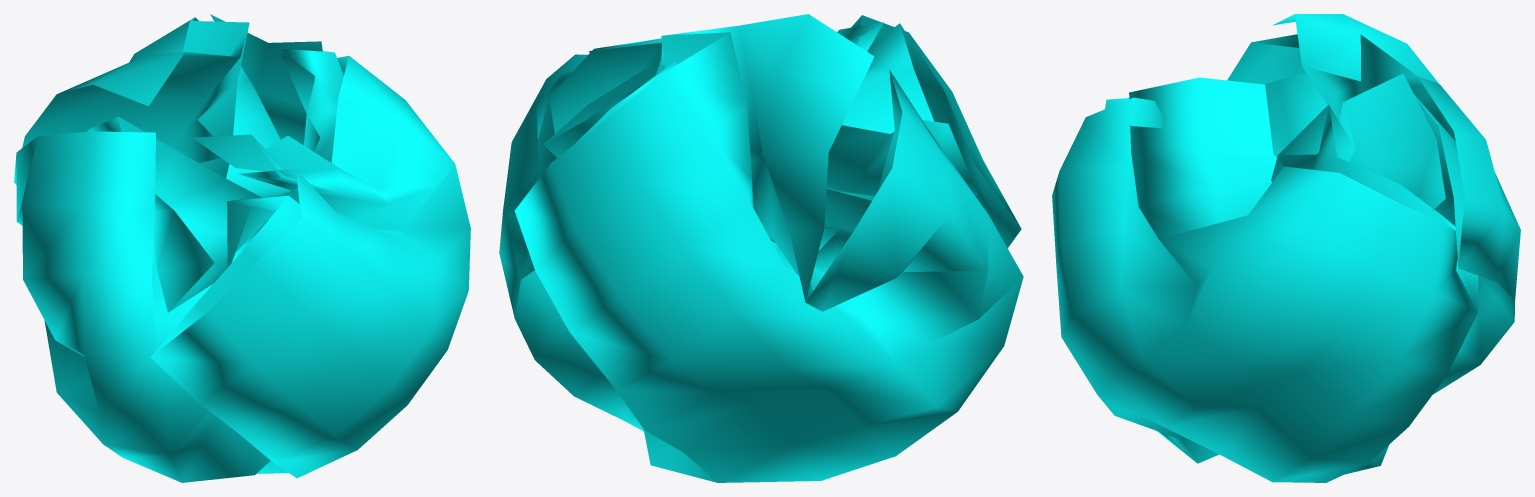
Rendered from furnishings-trash-candywrapper_v3.fbx.
The picture shows the model from 3 angles, left to right: view 1: azimuth 30°, elevation 25°; view 2: azimuth 150°, elevation 25°; view 3: azimuth 270°, elevation 25°; orthographic projection. The views are drawn at different scales.
Visible parts, largest first — view 1: CandyWrapper_v3; view 2: CandyWrapper_v3; view 3: CandyWrapper_v3.
Part boxes in pixels (left/top/right/bottom): CandyWrapper_v3: left=14, top=14, right=470, bottom=482; CandyWrapper_v3: left=499, top=14, right=1023, bottom=482; CandyWrapper_v3: left=1052, top=14, right=1520, bottom=482.
Bounding box in the file's own units: 0.0373 × 0.0367 × 0.0365.
